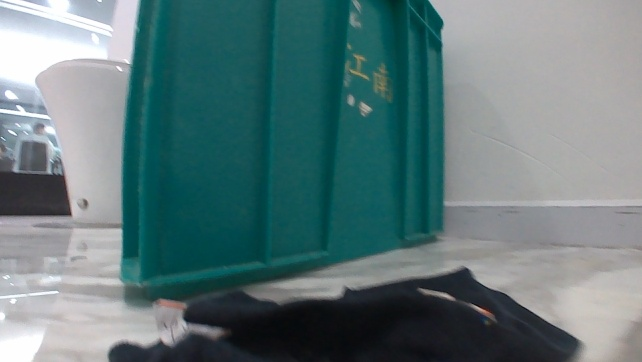socks: (106, 262, 584, 361)
toilet: (30, 55, 132, 228)
